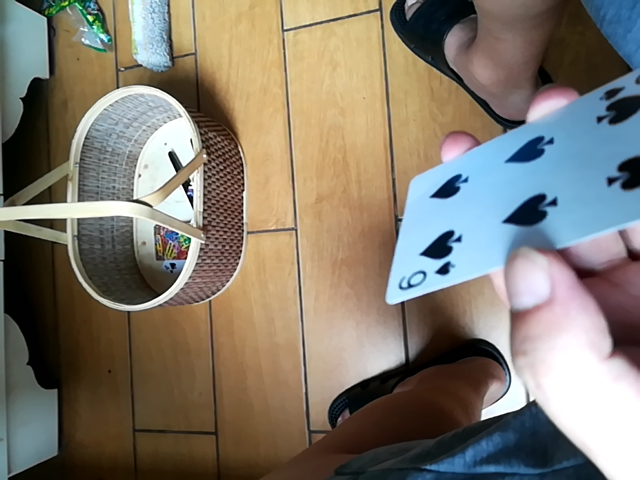ht 6: (384, 84, 634, 300)
